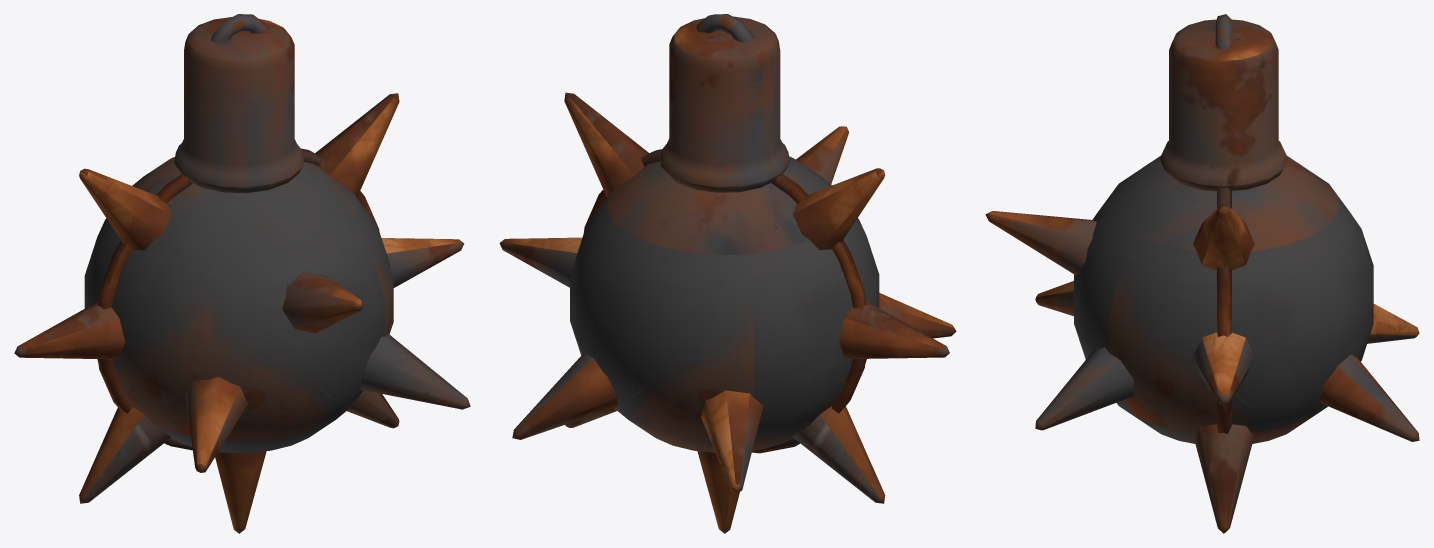
File: Head_Mace_Ball.glb
3 renders of one model, left to right at view 1: azimuth 30°, elevation 25°; view 2: azimuth 150°, elevation 25°; view 3: azimuth 270°, elevation 25°, orthographic. The views are drawn at different scales.
Parts seen in each view (by area): view 1: Head_Mace_Ball; view 2: Head_Mace_Ball; view 3: Head_Mace_Ball.
Boxes of the visible parts, box(x1,y1,x2,y2) form: Head_Mace_Ball: box(14, 14, 470, 533); Head_Mace_Ball: box(499, 14, 956, 533); Head_Mace_Ball: box(985, 14, 1419, 533).
Bounding box in the file's own units: 0.316 × 0.3483 × 0.2696.
Materials: 3 (3 with a texture image).
